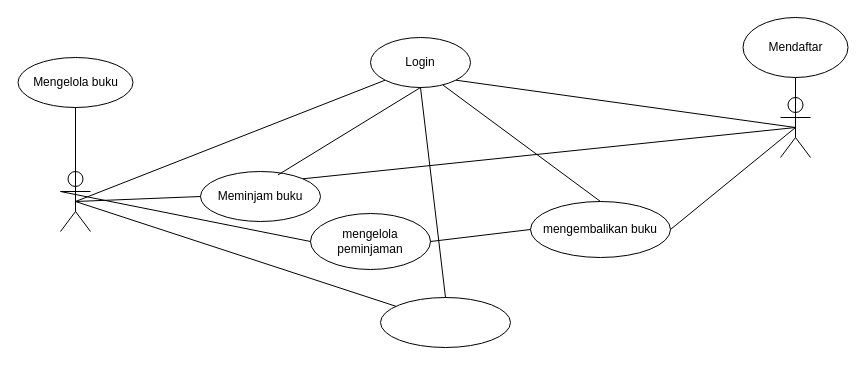
Image size: 865x365. Some labels were removed from this diagram. The shapes that lost their labels are listed below. From the top down, each one's centre as x and y in pixels, then its label:
point 795,127: User
point 75,201: Admin
point 445,322: mengelola pengguna
